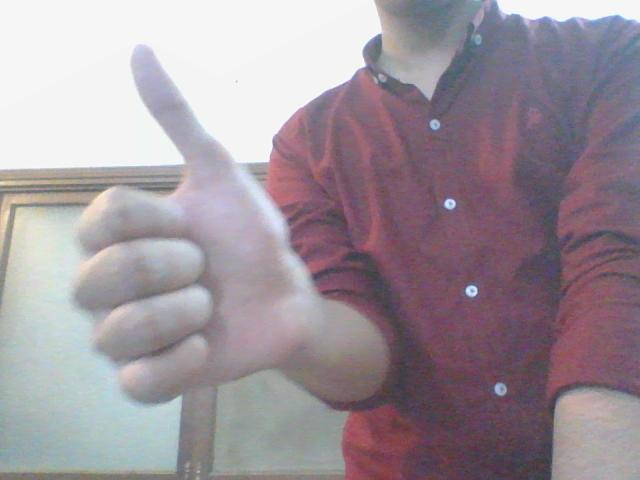thumbs-up: (76, 41, 293, 410)
